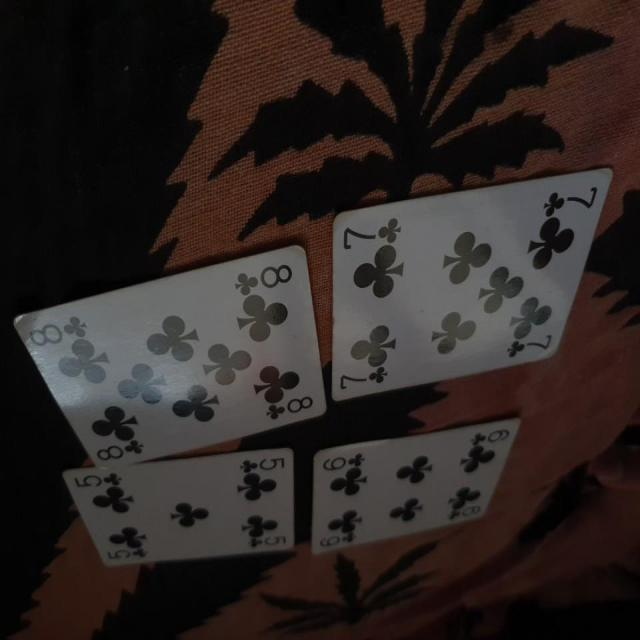5 Trefoils: (57, 444, 296, 569)
6 Trefoils: (310, 416, 522, 557)
7 Trefoils: (331, 163, 616, 400)
8 Trefoils: (11, 245, 328, 468)
